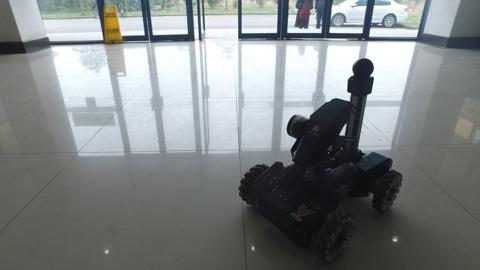car: (308, 1, 411, 29)
chariot: (235, 57, 405, 264)
